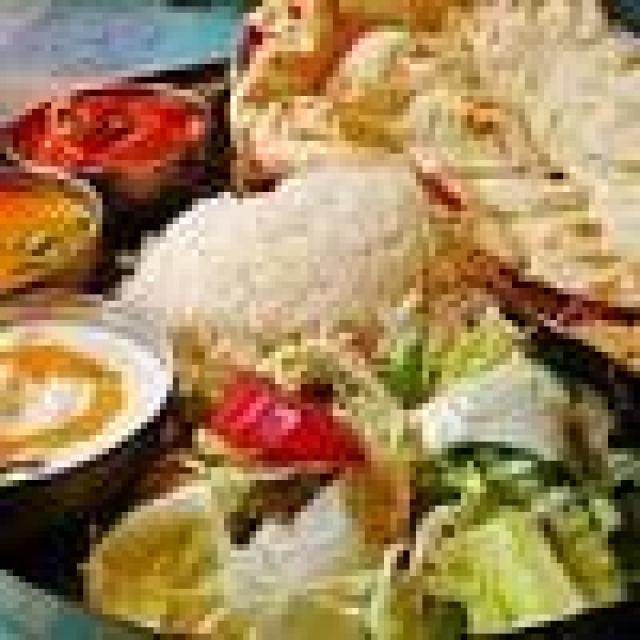veg-fry: (414, 424, 631, 637)
